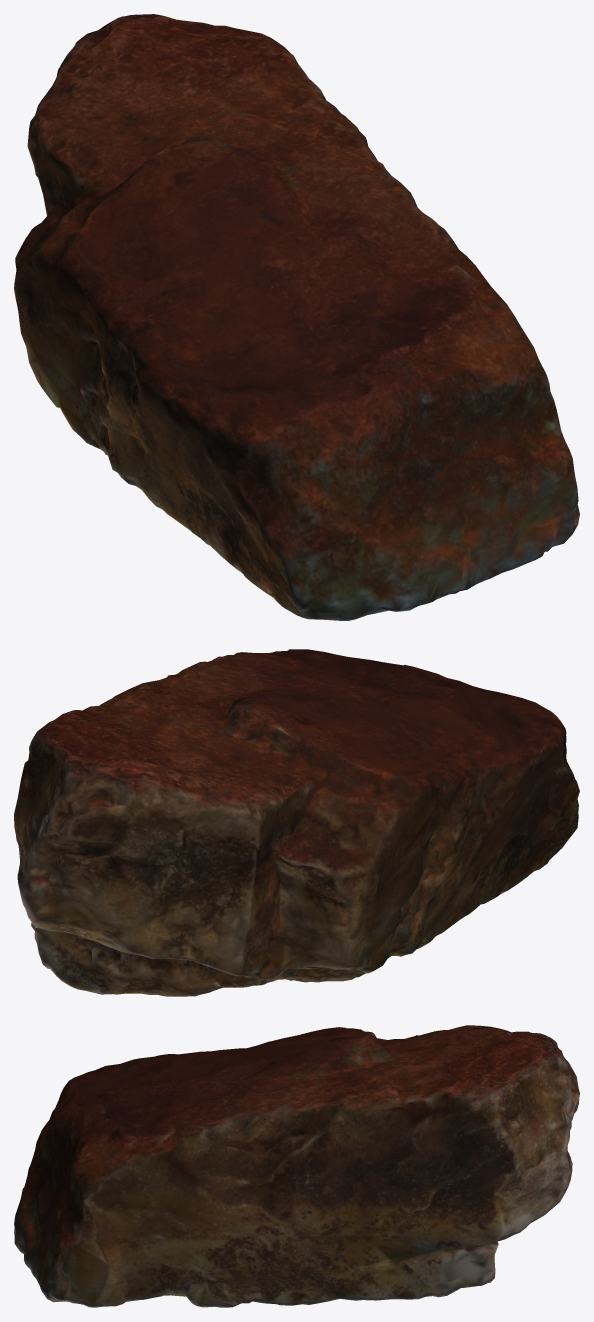
File: rock_07.glb
3 views of the same model, one above another, from view 1: azimuth 30°, elevation 25°; view 2: azimuth 150°, elevation 25°; view 3: azimuth 270°, elevation 25° (orthographic). The views are drawn at different scales.
Parts seen in each view (by area): view 1: rock_07; view 2: rock_07; view 3: rock_07.
Part boxes in pixels (left/top/right/bottom): rock_07: left=14, top=14, right=579, bottom=620; rock_07: left=14, top=649, right=579, bottom=996; rock_07: left=14, top=1025, right=579, bottom=1307.
Bounding box in the file's own units: 0.1689 × 0.1437 × 0.3203.
1 material, 1 textured.
